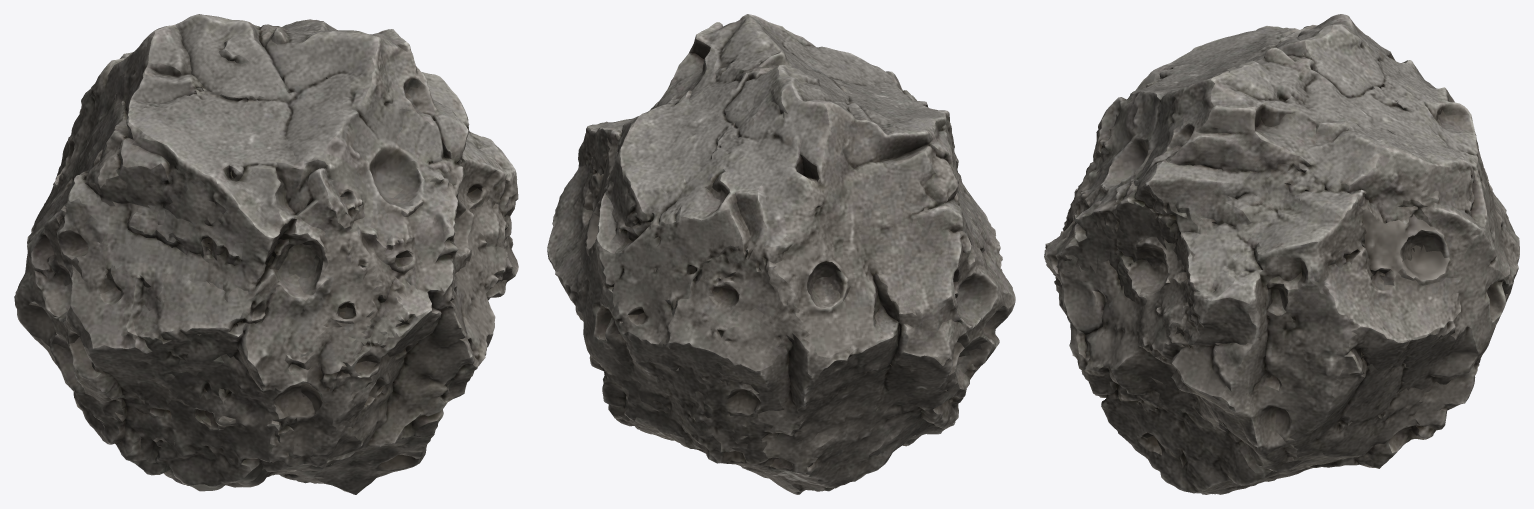
File: asteroid.glb
The picture shows the model from 3 angles, left to right: view 1: azimuth 30°, elevation 25°; view 2: azimuth 150°, elevation 25°; view 3: azimuth 270°, elevation 25°; orthographic projection. The views are drawn at different scales.
Visible parts, largest first — view 1: world; view 2: world; view 3: world.
Part boxes in pixels (x1,y1,x2,y2): world: [14, 14, 518, 494]; world: [547, 14, 1015, 494]; world: [1044, 14, 1519, 494].
Size of the model in its own units: 0.5 by 0.4938 by 0.4946.
1 material, 1 textured.
